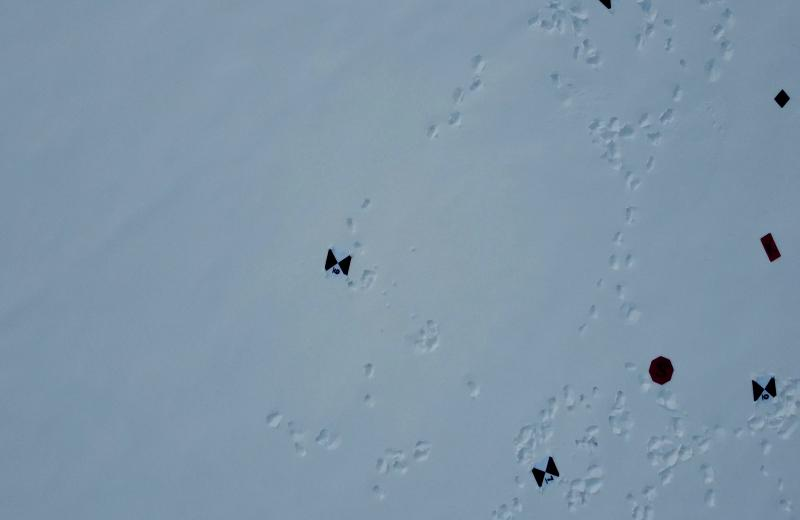Octagon: (643, 352, 674, 387)
Rectangle: (759, 224, 784, 264)
Square: (772, 87, 795, 112)
